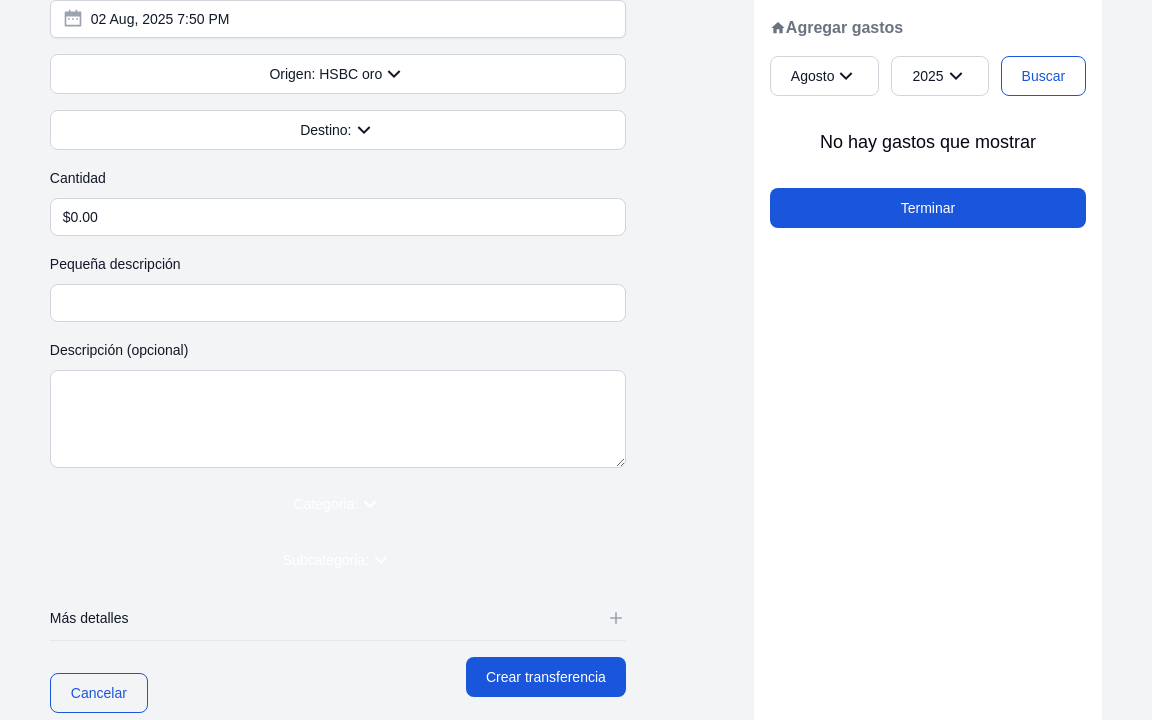
it: TransferTemplate › Form Validations › Given a user clicking on create a transfer, show validation error for short description to be required
Step 1. Click the button "Crear transferencia" → x=546, y=677, box [466,657,626,697]
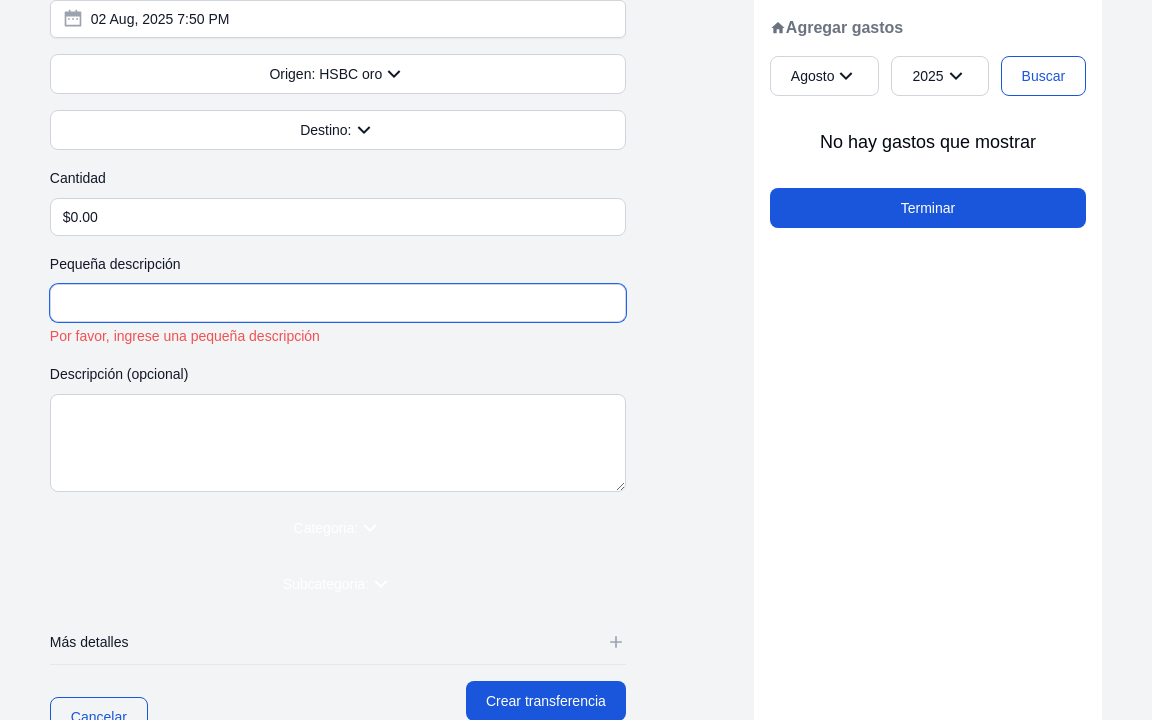
Result: the text "Por favor, ingrese una pequeña descripción" is shown at [50,328,320,344]
